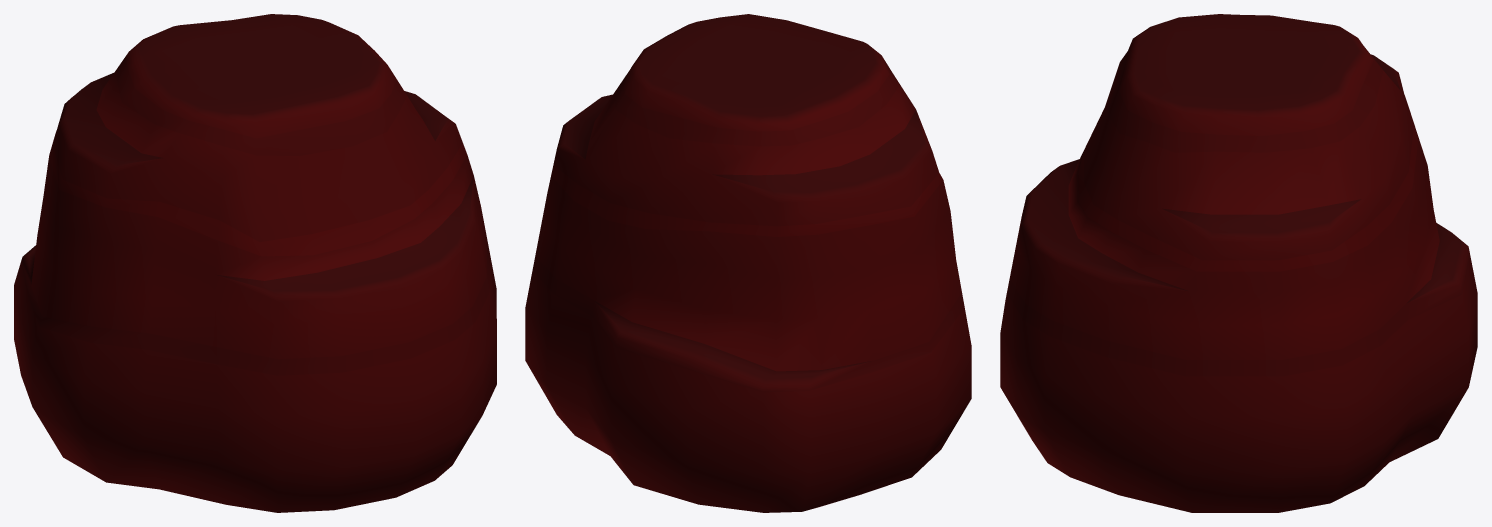
File: geology-landforms-alienpillar_v1.fbx
3 views of the same model, side by side, from view 1: azimuth 30°, elevation 25°; view 2: azimuth 150°, elevation 25°; view 3: azimuth 270°, elevation 25° (orthographic). The views are drawn at different scales.
Parts seen in each view (by area): view 1: AlienPillar_v1; view 2: AlienPillar_v1; view 3: AlienPillar_v1.
Part boxes in pixels (left/top/right/bottom): AlienPillar_v1: left=14, top=14, right=496, bottom=512; AlienPillar_v1: left=525, top=14, right=971, bottom=512; AlienPillar_v1: left=1000, top=14, right=1477, bottom=512.
Bounding box in the file's own units: 41.86 × 35.35 × 42.01.
